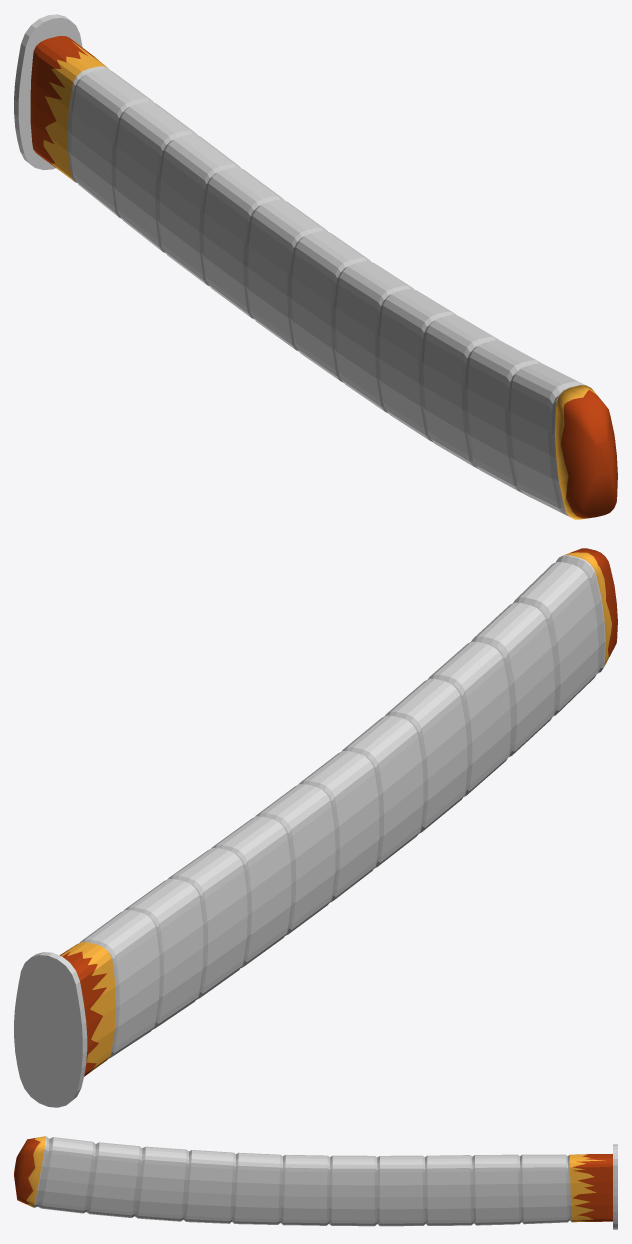
File: hilt_flame.glb
The picture shows the model from 3 angles, top to bottom: view 1: azimuth 30°, elevation 25°; view 2: azimuth 150°, elevation 25°; view 3: azimuth 270°, elevation 25°; orthographic projection. The views are drawn at different scales.
Visible parts, largest first — view 1: Hilt, Hilt.003; view 2: Hilt, Hilt.003; view 3: Hilt, Hilt.003.
Boxes of the visible parts, box(x1,y1,x2,y2) form: Hilt: box(14, 14, 585, 516); Hilt.003: box(555, 385, 617, 519); Hilt: box(14, 555, 605, 1107); Hilt.003: box(565, 548, 617, 666); Hilt: box(34, 1136, 617, 1229); Hilt.003: box(14, 1136, 45, 1207).
Size of the model in its own units: 0.0353 by 0.0808 by 0.4932.
